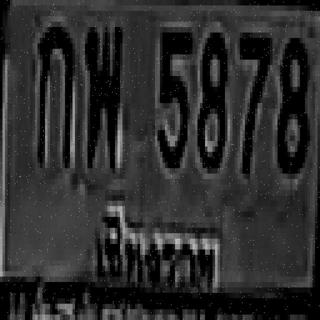A01: (35, 22, 72, 163)
A30: (84, 24, 121, 166)
N05: (158, 27, 190, 163)
N07: (238, 30, 268, 171)
N08: (275, 32, 308, 168), (196, 27, 226, 168)
P12: (88, 203, 224, 299)
